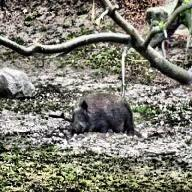boar: (51, 80, 132, 146)
